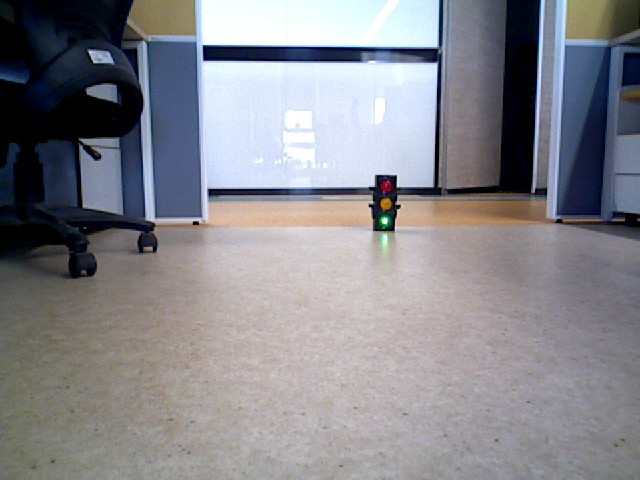green: (372, 175, 398, 229)
